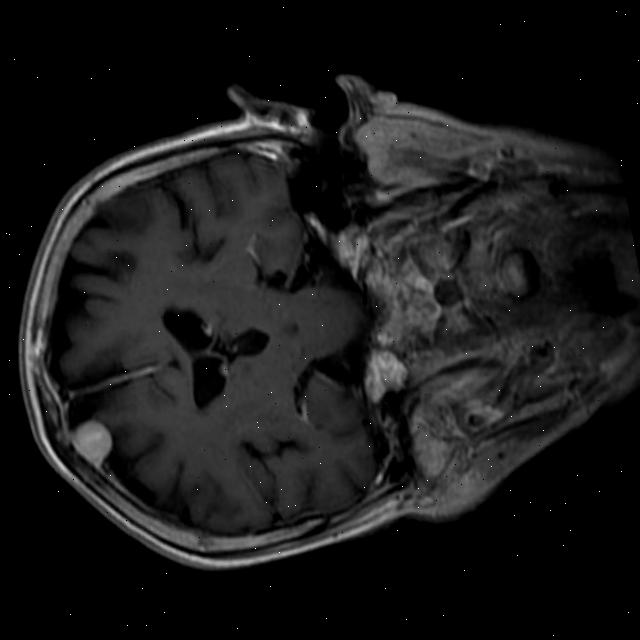Meningioma: (64, 413, 118, 476)
